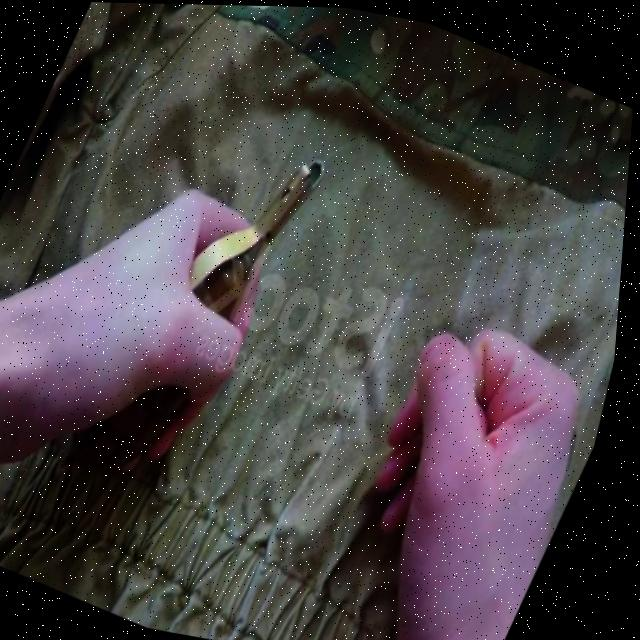grenade: (59, 97, 338, 519)
